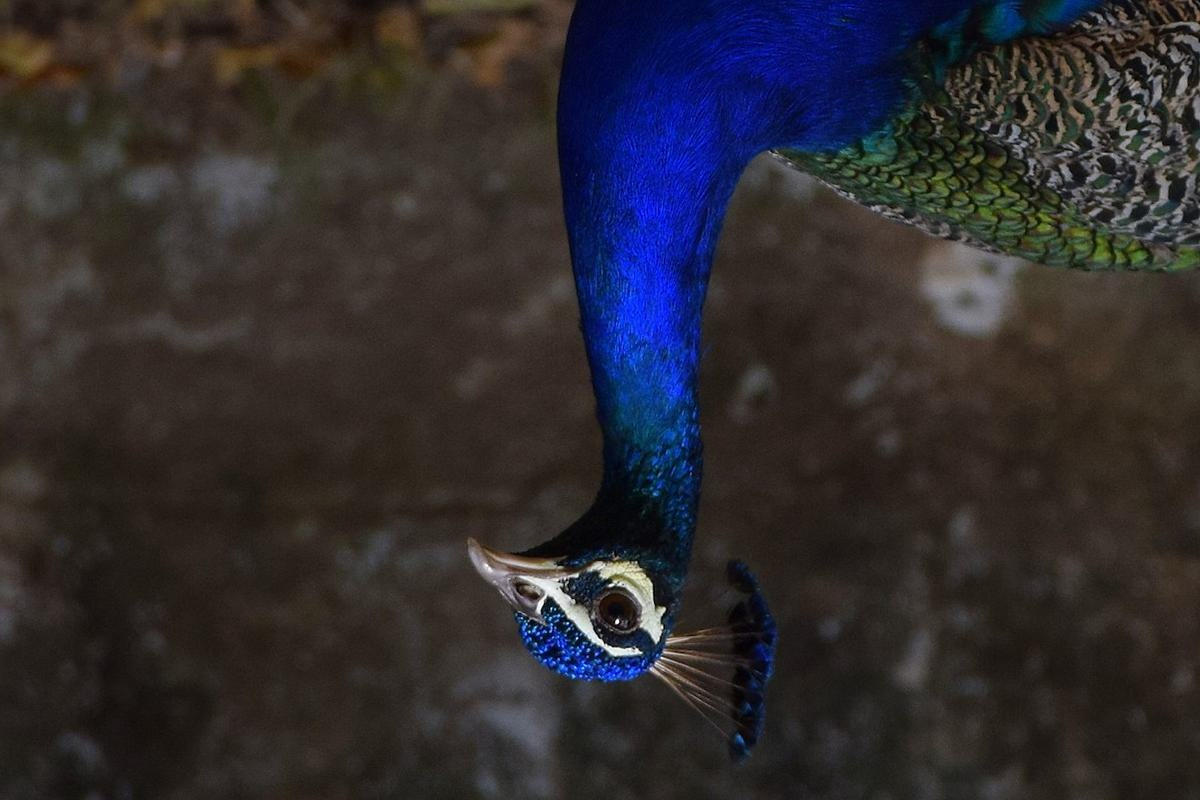peacock: (451, 1, 1187, 740)
